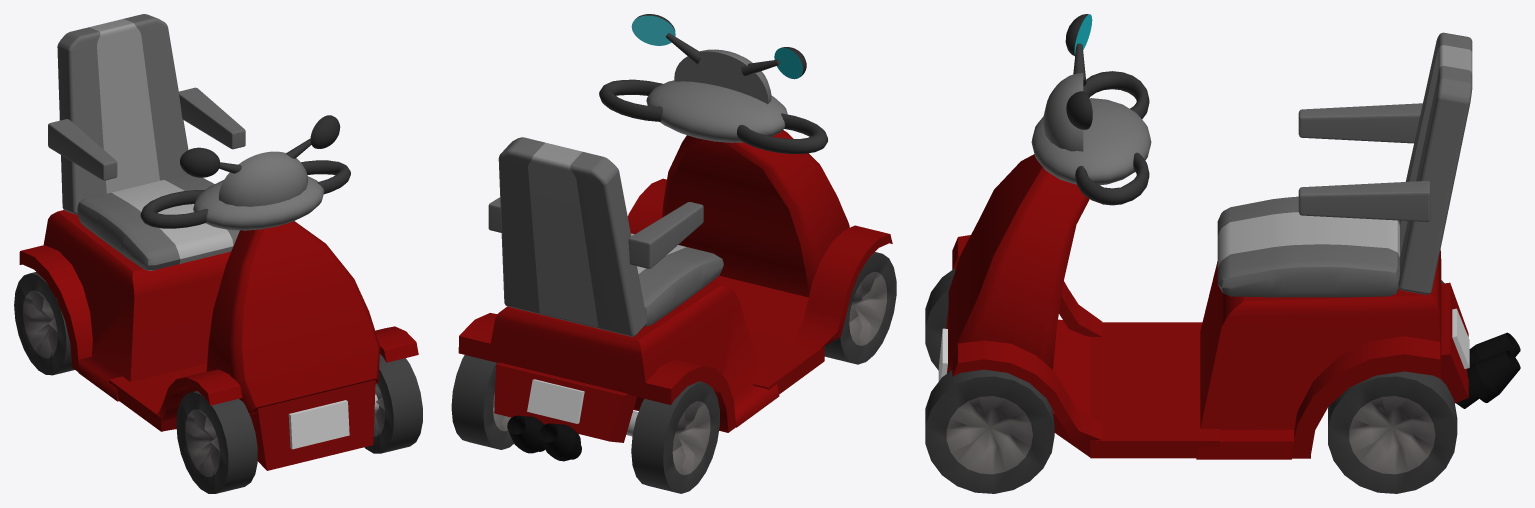
Rendered from SeniorCarVer2.3.fbx.
3 renders of one model, left to right at view 1: azimuth 30°, elevation 25°; view 2: azimuth 150°, elevation 25°; view 3: azimuth 270°, elevation 25°, orthographic. The views are drawn at different scales.
Parts seen in each view (by area): view 1: pCube7, Frame, pCube9, Sheet, ForwardRightTire, pCube15, BackRightTire, ForwardLeftTire, pSphere2, Handle, pCube10, pCube4 (+8 smaller); view 2: pCube9, Frame, pCube7, BackRightTire, Handle, pCylinder19, pCube14, ForwardRightTire, BackLeftTire, Sheet, pCube3, pCube4 (+10 smaller); view 3: Frame, pCube7, Sheet, pCube4, ForwardLeftTire, BackLeftTire, pCube9, Handle, pCylinder17, pCube11, pCube10, pCube3 (+11 smaller).
Boxes of the visible parts, <box> form: pCube7: <box>206,221,379,414</box>; Frame: <box>19,210,231,401</box>; pCube9: <box>57,14,188,214</box>; Sheet: <box>77,174,239,270</box>; ForwardRightTire: <box>176,391,257,493</box>; pCube15: <box>250,379,375,470</box>; BackRightTire: <box>14,272,74,375</box>; ForwardLeftTire: <box>364,354,422,453</box>; pSphere2: <box>218,151,307,206</box>; Handle: <box>193,176,324,230</box>; pCube10: <box>48,119,117,180</box>; pCube4: <box>109,363,206,431</box>; pCube9: <box>498,137,647,336</box>; Frame: <box>458,282,779,432</box>; pCube7: <box>662,130,849,297</box>; BackRightTire: <box>631,381,719,493</box>; Handle: <box>646,80,787,142</box>; pCylinder19: <box>792,225,892,349</box>; pCube14: <box>494,362,636,442</box>; ForwardRightTire: <box>824,252,896,364</box>; BackLeftTire: <box>451,355,513,449</box>; Sheet: <box>631,233,723,326</box>; pCube3: <box>711,275,808,338</box>; pCube4: <box>747,327,824,394</box>; Frame: <box>1196,249,1441,459</box>; pCube7: <box>948,154,1089,370</box>; Sheet: <box>1217,196,1399,297</box>; pCube4: <box>1090,322,1219,458</box>; ForwardLeftTire: <box>925,369,1054,493</box>; BackLeftTire: <box>1328,371,1457,493</box>; pCube9: <box>1398,32,1472,294</box>; Handle: <box>1031,98,1151,185</box>; pCylinder17: <box>952,340,1102,440</box>; pCube11: <box>1298,181,1430,221</box>; pCube10: <box>1298,103,1422,143</box>; pCube3: <box>1053,319,1090,457</box>.
Bounding box in the file's own units: 2.56 × 3.54 × 5.03.
